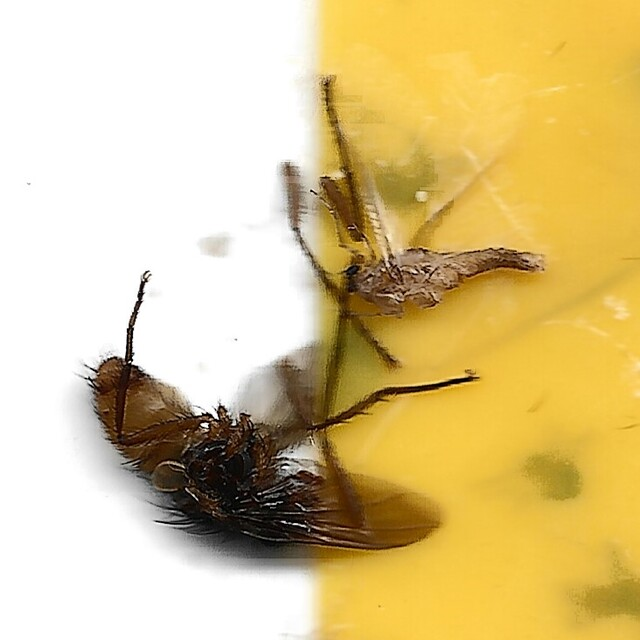Brachycera: (87, 262, 485, 559)
Ephemeroptera: (334, 81, 553, 320)
